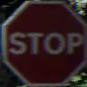Stop: (3, 11, 80, 71)
